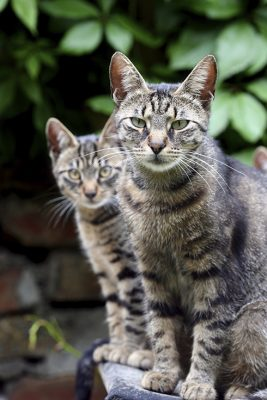Cat: (105, 42, 267, 394), (35, 110, 132, 229)
